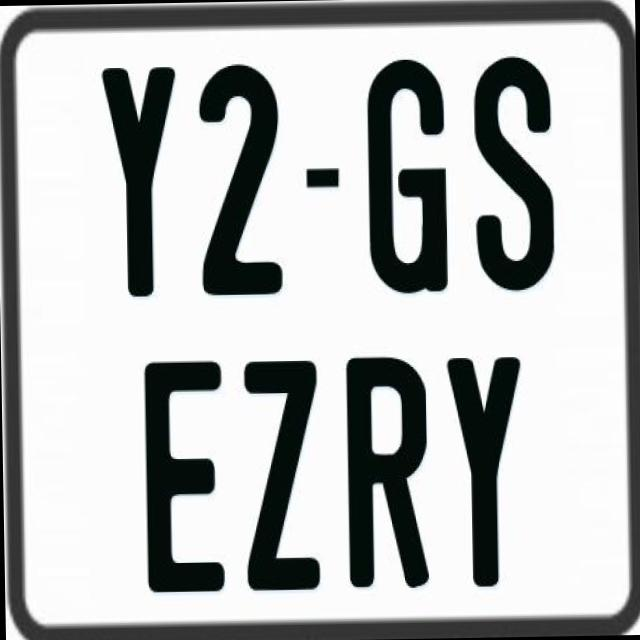2: (194, 61, 285, 296)
E: (143, 357, 226, 589)
G: (362, 57, 449, 295)
R: (343, 356, 430, 588)
S: (473, 51, 561, 292)
Y: (443, 352, 521, 584), (102, 65, 180, 295)
Z: (242, 358, 318, 598)
